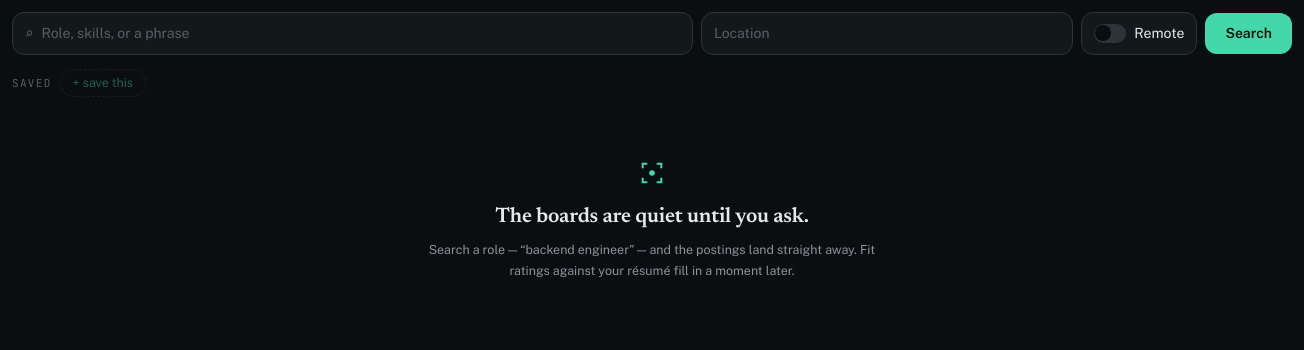
Scenario: sourcing workspace › offers to widen the search when nothing matched
Type "quantum farrier" into the field with test id "search-keywords" at point(361, 34), box [41, 23, 680, 44]
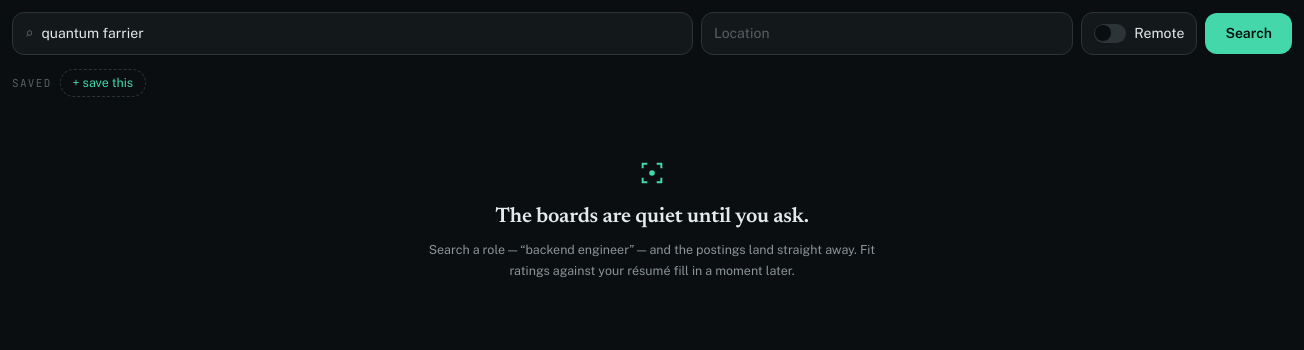
Click the button with test id "search-jobs" at point(1249, 34), box [1205, 13, 1292, 54]
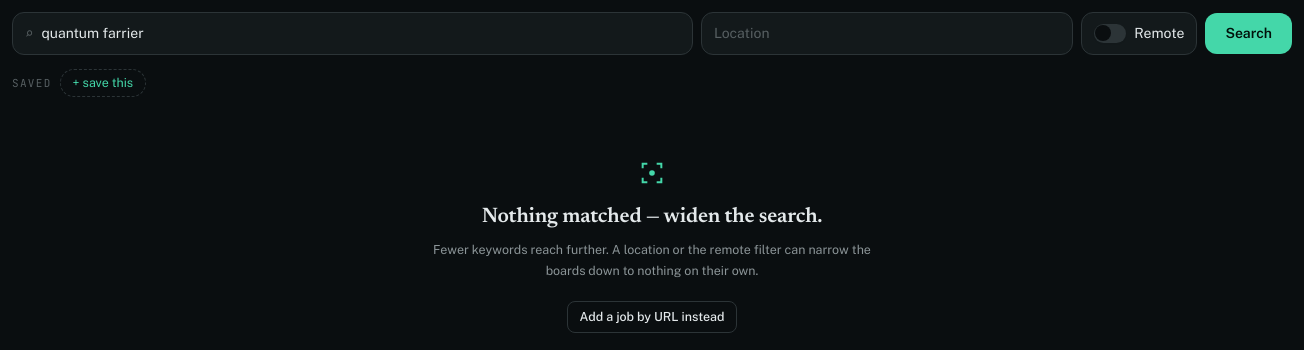
Check: the heading "Nothing matched — widen the search." is shown, box [482, 207, 822, 228]
